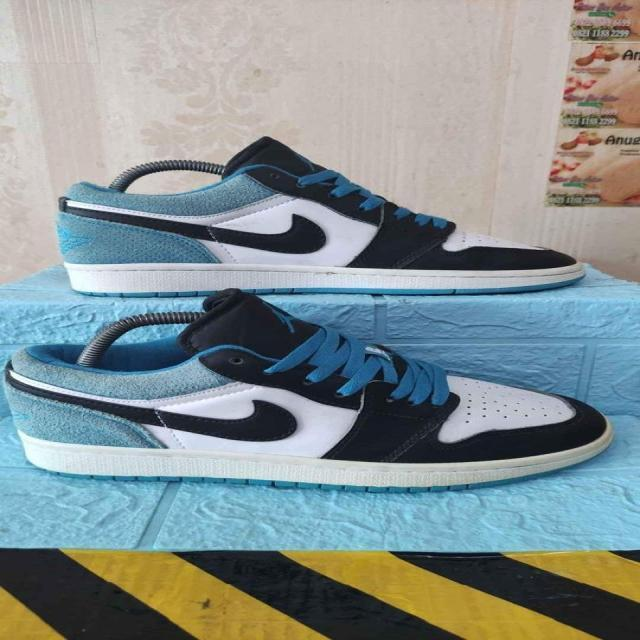nike fake jordan 1: (4, 287, 616, 496), (52, 134, 584, 296)
